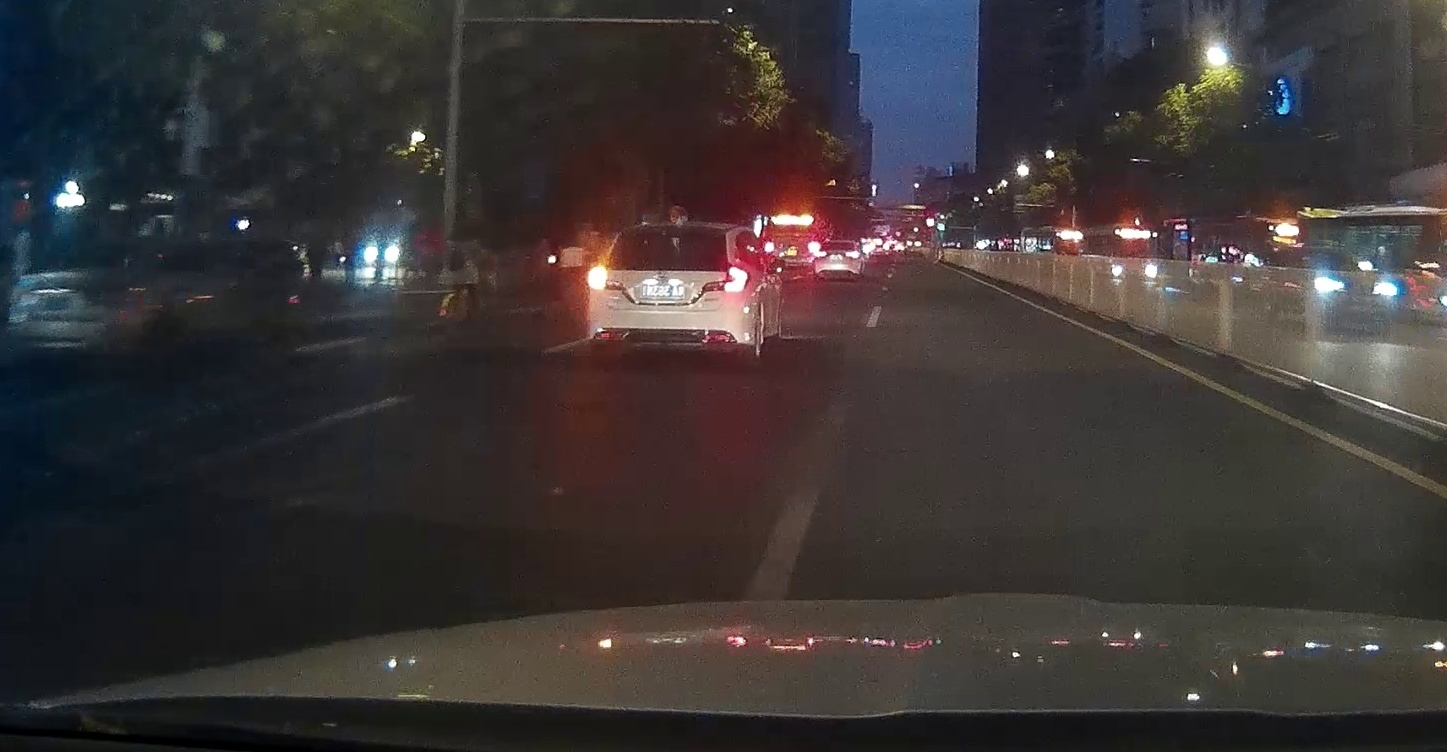L_light: (586, 265, 628, 291)
R_light: (700, 267, 750, 292)
T_light: (663, 226, 686, 230)
night-no: (586, 221, 753, 369)
